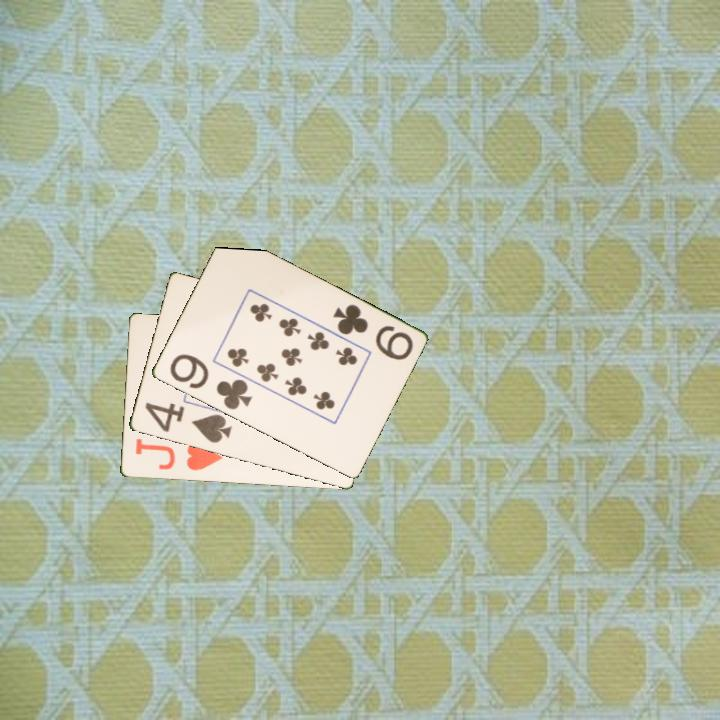4s: (141, 399, 234, 446)
9c: (166, 350, 255, 413), (329, 300, 416, 363)
Jh: (132, 436, 225, 474)
